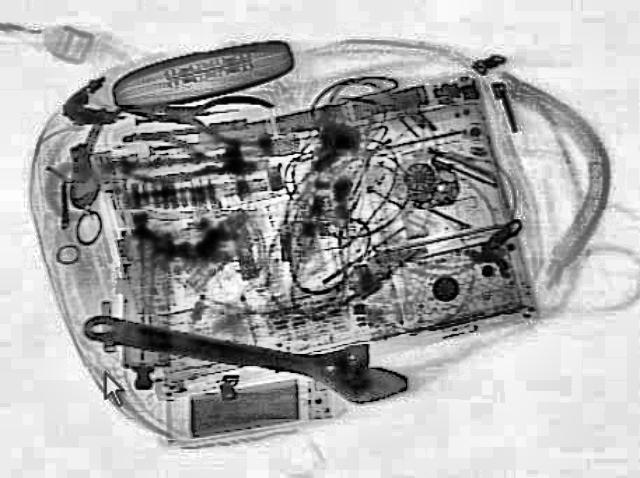Pliers: (113, 82, 275, 144), (110, 127, 258, 191)
Wrench: (72, 294, 420, 412)
